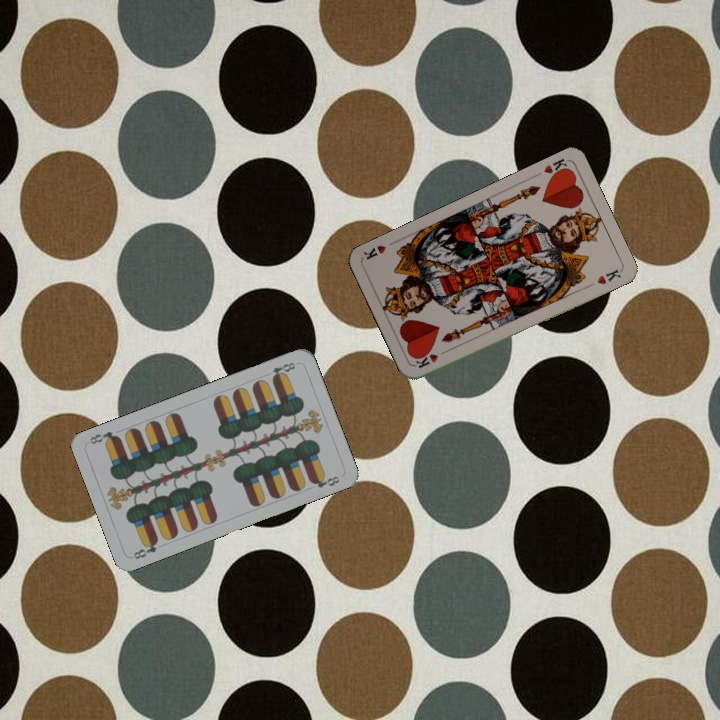E8: (129, 535, 161, 562), (268, 358, 298, 382)
HK: (412, 346, 451, 371), (540, 154, 572, 181)
